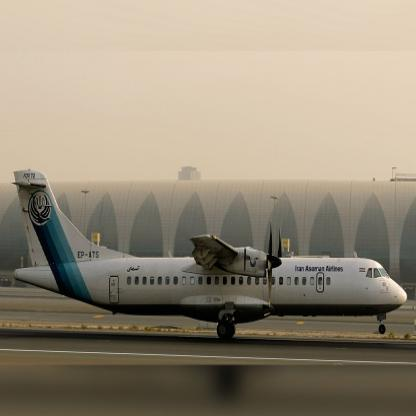CIV_Plane: (6, 162, 408, 359)
